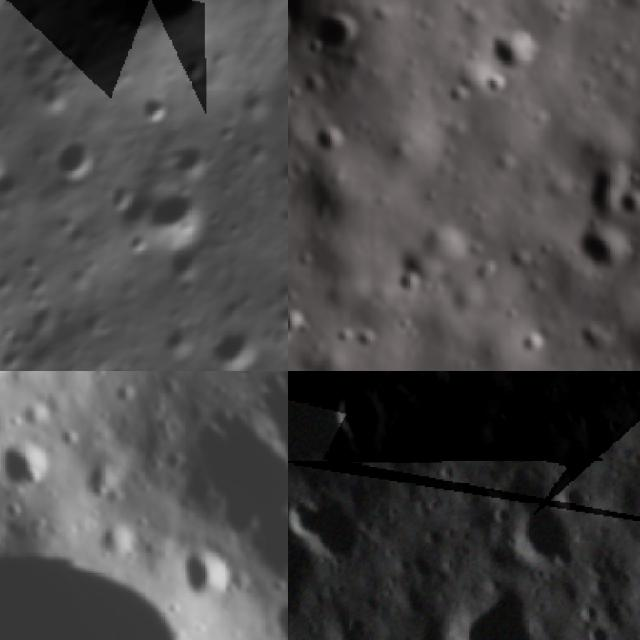crater: (0, 420, 288, 640), (151, 386, 288, 544), (288, 470, 387, 588), (316, 380, 402, 470), (441, 578, 564, 640), (288, 515, 339, 640), (144, 177, 215, 261), (512, 497, 587, 576), (230, 495, 288, 595), (165, 537, 240, 613), (560, 397, 631, 471), (0, 424, 58, 498), (571, 163, 630, 226), (201, 319, 267, 371), (580, 226, 636, 280), (70, 466, 123, 520), (49, 129, 101, 184), (307, 15, 373, 58), (83, 515, 136, 567), (418, 371, 483, 408), (381, 260, 429, 307), (299, 119, 350, 163), (492, 24, 532, 74), (256, 586, 288, 640), (0, 138, 25, 200), (573, 596, 611, 636), (135, 97, 173, 136), (556, 481, 594, 519), (508, 326, 548, 361), (177, 52, 213, 90), (484, 502, 520, 540), (612, 184, 640, 222), (288, 305, 312, 348), (437, 460, 468, 493), (288, 0, 306, 45), (215, 120, 242, 147), (47, 65, 73, 90), (585, 623, 622, 640), (629, 100, 640, 141), (276, 25, 288, 62)
